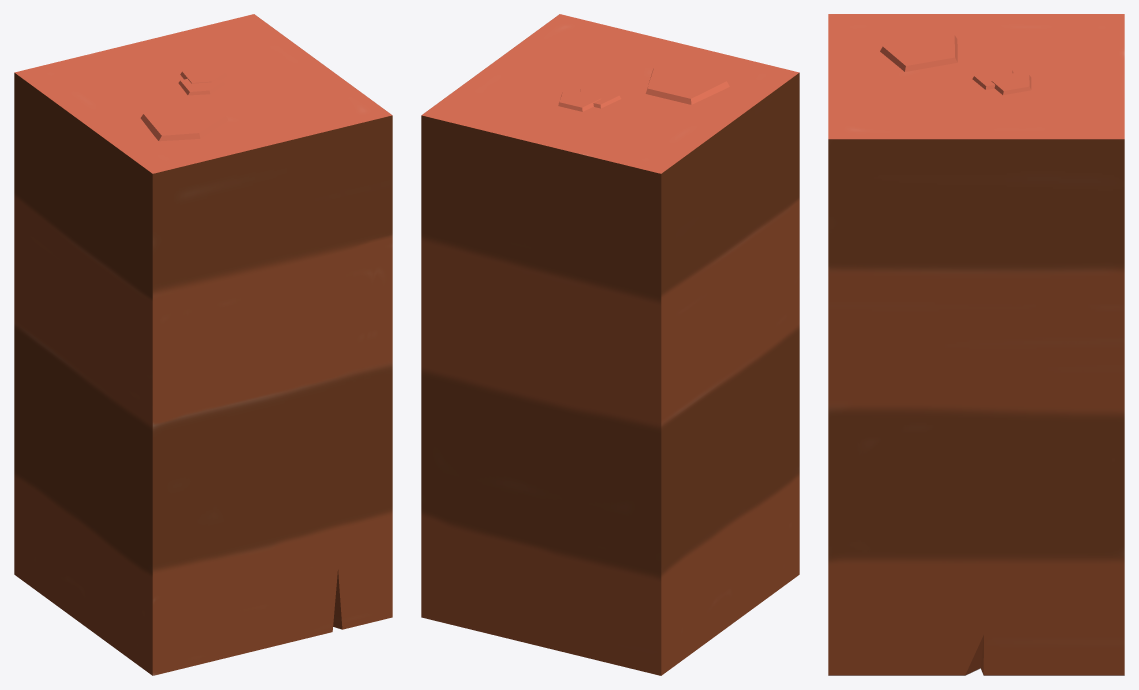
Rendered from wall_lisse.fbx.
3 renders of one model, left to right at view 1: azimuth 30°, elevation 25°; view 2: azimuth 150°, elevation 25°; view 3: azimuth 270°, elevation 25°, orthographic. The views are drawn at different scales.
Visible parts, largest first — view 1: Cube, Cube.001, Cube.003; view 2: Cube, Cube.001, Cube.003; view 3: Cube, Cube.001, Cube.003, Cube.002.
Part boxes in pixels (x1,y1,x2,y2): Cube: (14,14,392,675); Cube.001: (140,103,228,141); Cube.003: (180,66,227,83); Cube: (421,14,799,675); Cube.001: (645,67,729,104); Cube.003: (558,91,600,111); Cube: (828,14,1124,675); Cube.001: (880,30,957,71); Cube.003: (991,72,1031,95); Cube.002: (972,67,1013,89).
Bounding box in the file's own units: 200 × 404 × 200.
